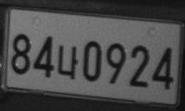0: (82, 40, 102, 82)
2: (129, 45, 149, 88)
4: (152, 47, 174, 90), (33, 35, 55, 77)
8: (10, 32, 31, 74)
9: (105, 42, 126, 84)
나: (57, 45, 78, 79)
